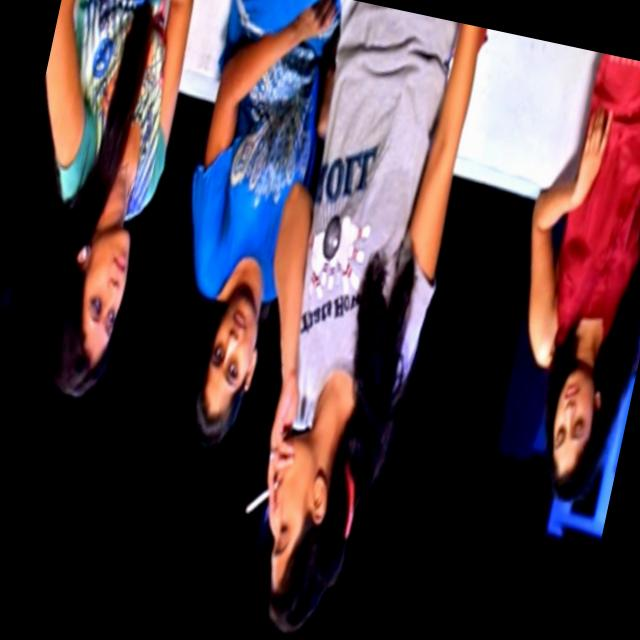smoke: (246, 489, 267, 520)
